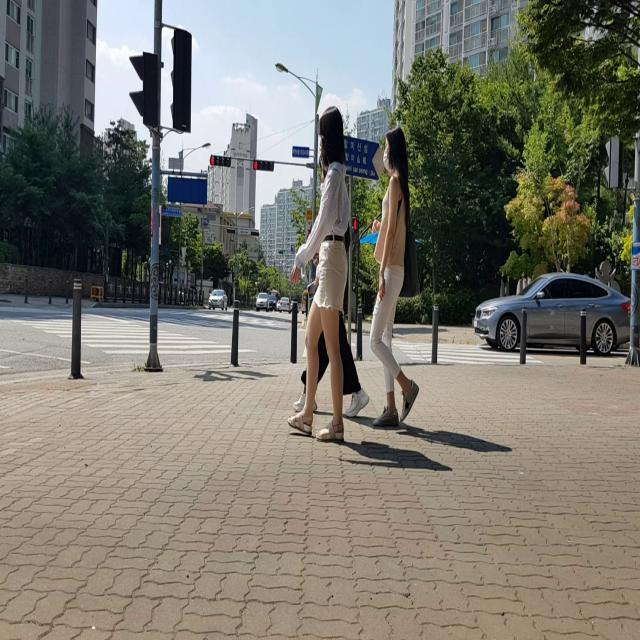빨간불: (352, 214, 359, 245)
횡단보도: (0, 308, 258, 360), (390, 336, 546, 366)
